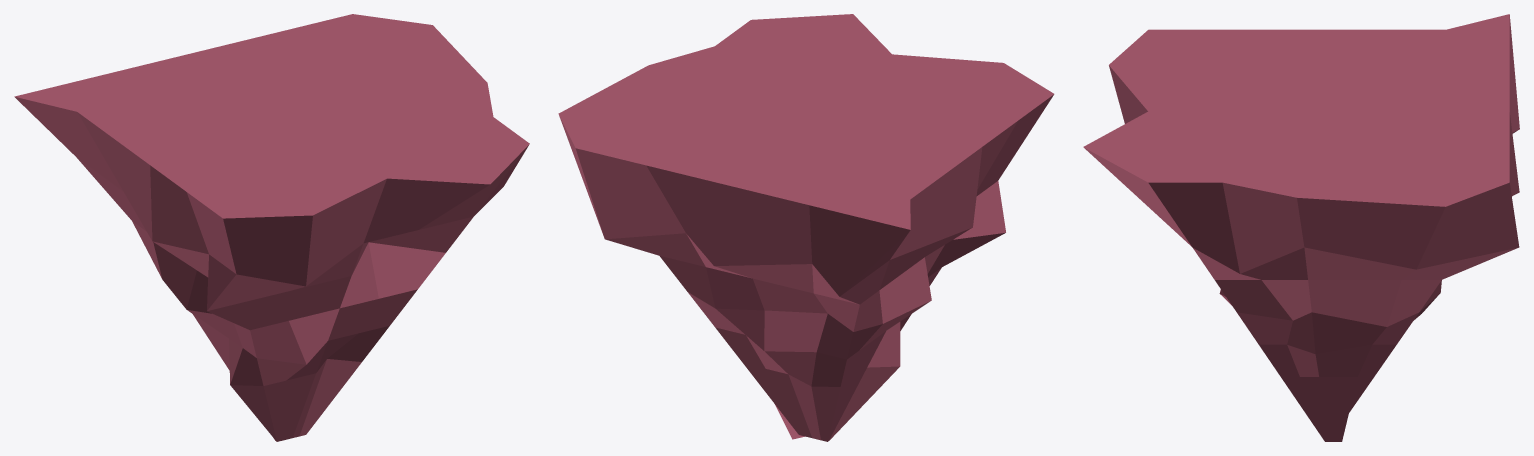
The model's file is rots.fbx.
The picture shows the model from 3 angles, left to right: view 1: azimuth 30°, elevation 25°; view 2: azimuth 150°, elevation 25°; view 3: azimuth 270°, elevation 25°; orthographic projection. The views are drawn at different scales.
Visible parts, largest first — view 1: Cube; view 2: Cube; view 3: Cube.
Part boxes in pixels (x1,y1,x2,y2): Cube: (14, 14, 529, 441); Cube: (558, 14, 1054, 441); Cube: (1083, 14, 1519, 441).
Bounding box in the file's own units: 531 × 421 × 509.
